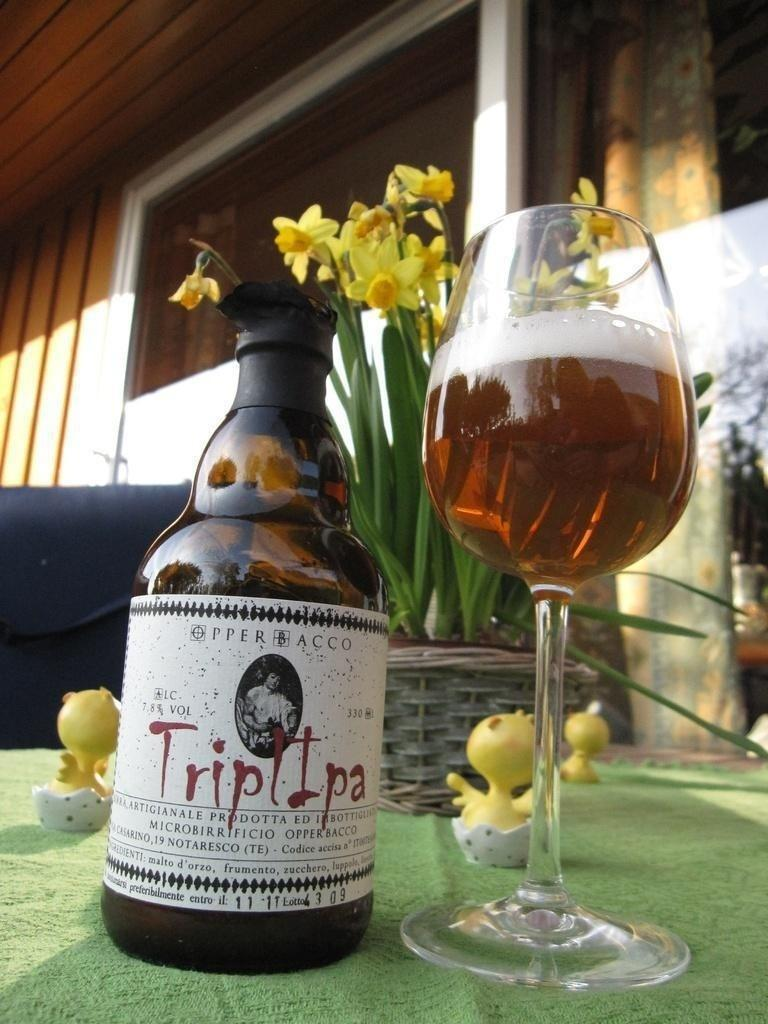bottle-glass: (98, 345, 400, 976)
glass-wine: (400, 199, 697, 994)
